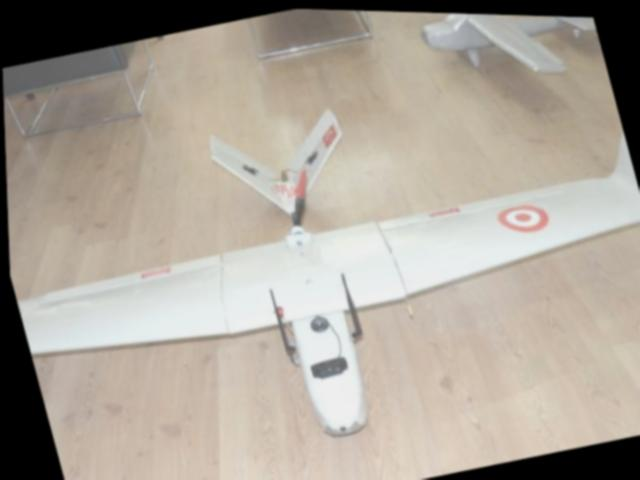iha: (1, 28, 640, 480)
